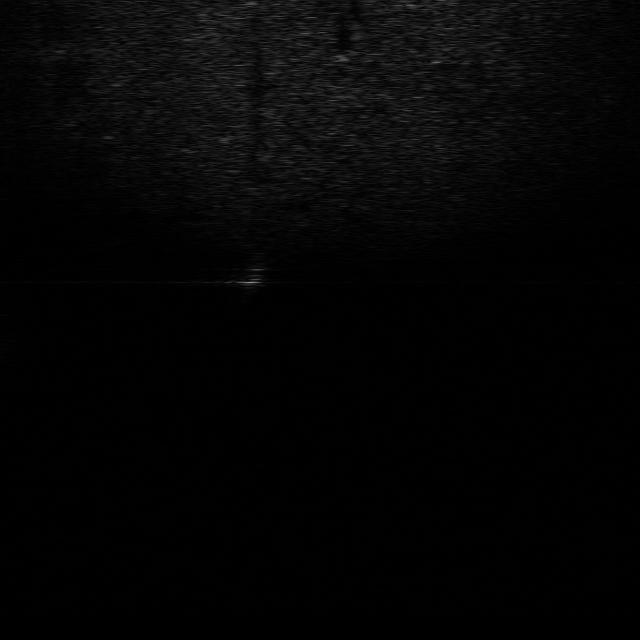human body: (235, 252, 267, 308)
